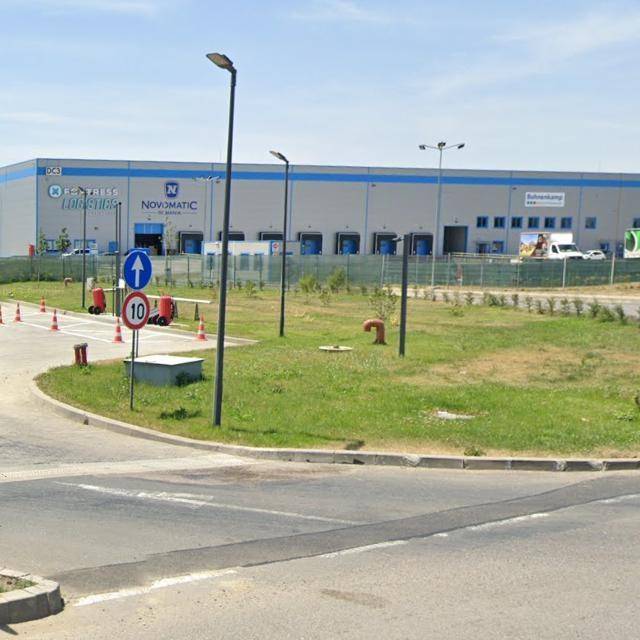forb_speed_over_10: (123, 292, 150, 330)
